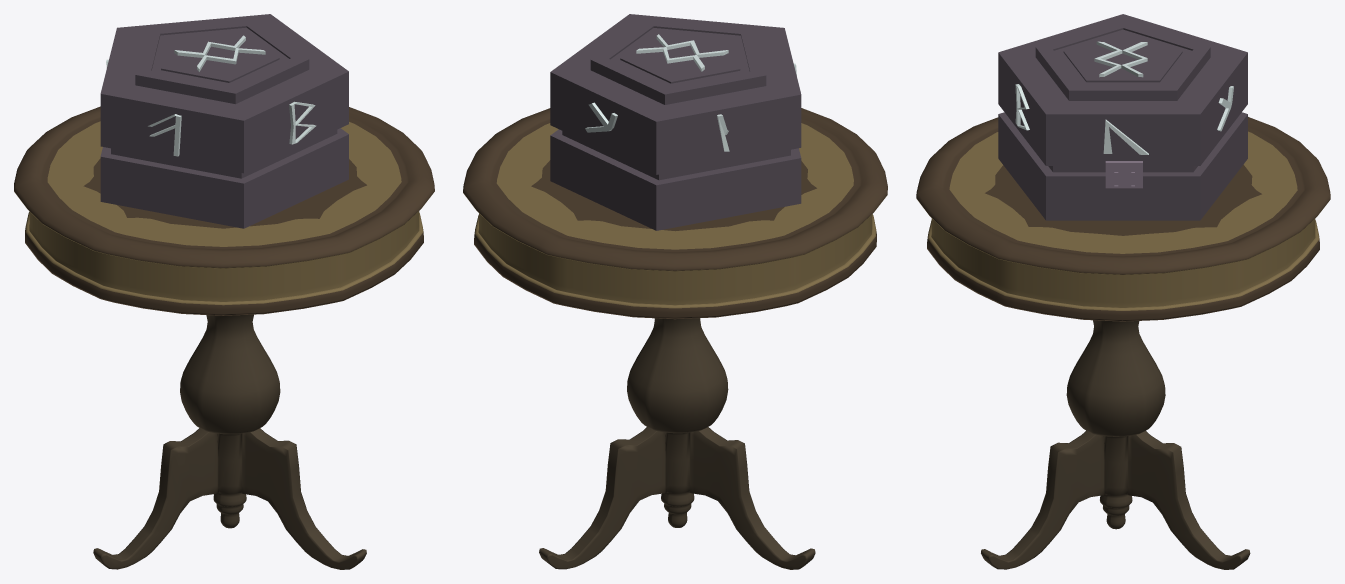
Rendered from 3Dobject_Safe.fbx.
3 views of the same model, side by side, from view 1: azimuth 30°, elevation 25°; view 2: azimuth 150°, elevation 25°; view 3: azimuth 270°, elevation 25° (orthographic). The views are drawn at different scales.
Visible parts, largest first — view 1: SafeComplete, Safe, runes; view 2: SafeComplete, Safe, runes; view 3: SafeComplete, Safe, runes.
Boxes of the visible parts, <box> form: SafeComplete: <box>14,106,434,569</box>; Safe: <box>100,14,348,228</box>; runes: <box>106,35,316,156</box>; SafeComplete: <box>463,108,887,569</box>; Safe: <box>550,14,801,230</box>; runes: <box>585,34,796,151</box>; SafeComplete: <box>916,117,1330,569</box>; Safe: <box>998,14,1247,220</box>; runes: <box>1015,41,1233,154</box>.
Bounding box in the file's own units: 0.9525 × 1.23 × 0.9634.
